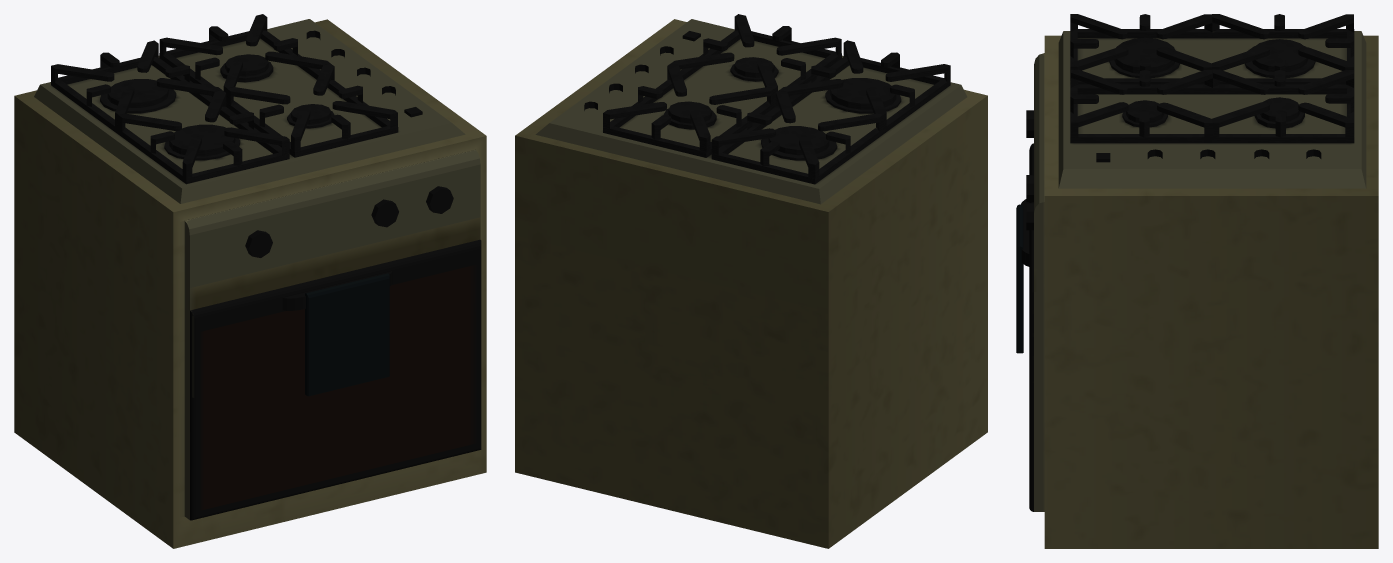
Rendered from Oven.glb.
The picture shows the model from 3 angles, left to right: view 1: azimuth 30°, elevation 25°; view 2: azimuth 150°, elevation 25°; view 3: azimuth 270°, elevation 25°; orthographic projection. The views are drawn at different scales.
Visible parts, largest first — view 1: Cube.015; view 2: Cube.015; view 3: Cube.015.
Boxes of the visible parts, <box> form: Cube.015: <box>14,14,486,548</box>; Cube.015: <box>515,14,987,548</box>; Cube.015: <box>1016,14,1378,548</box>.
Bounding box in the file's own units: 15.81 × 17.83 × 15.11.
Materials: 1 (1 with a texture image).
